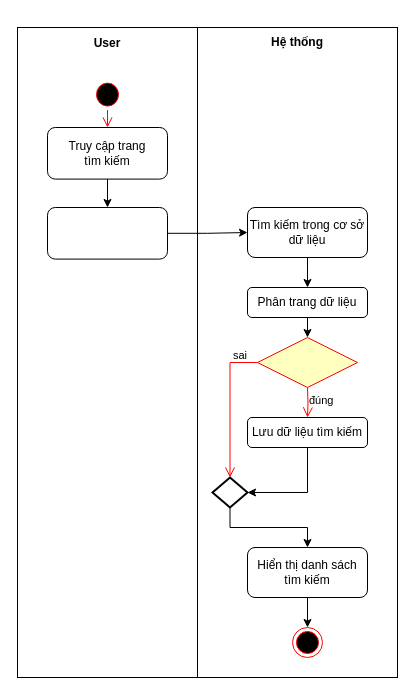
This 415x695 diagram has some shape labels left out. The box of each missing label's shape, as (x1, y1, x2, y2) in pixels:
Nhập từ khóa, click "Tìm kiếm": (46, 206, 168, 259)
Đã đăng nhập?: (256, 336, 358, 388)
